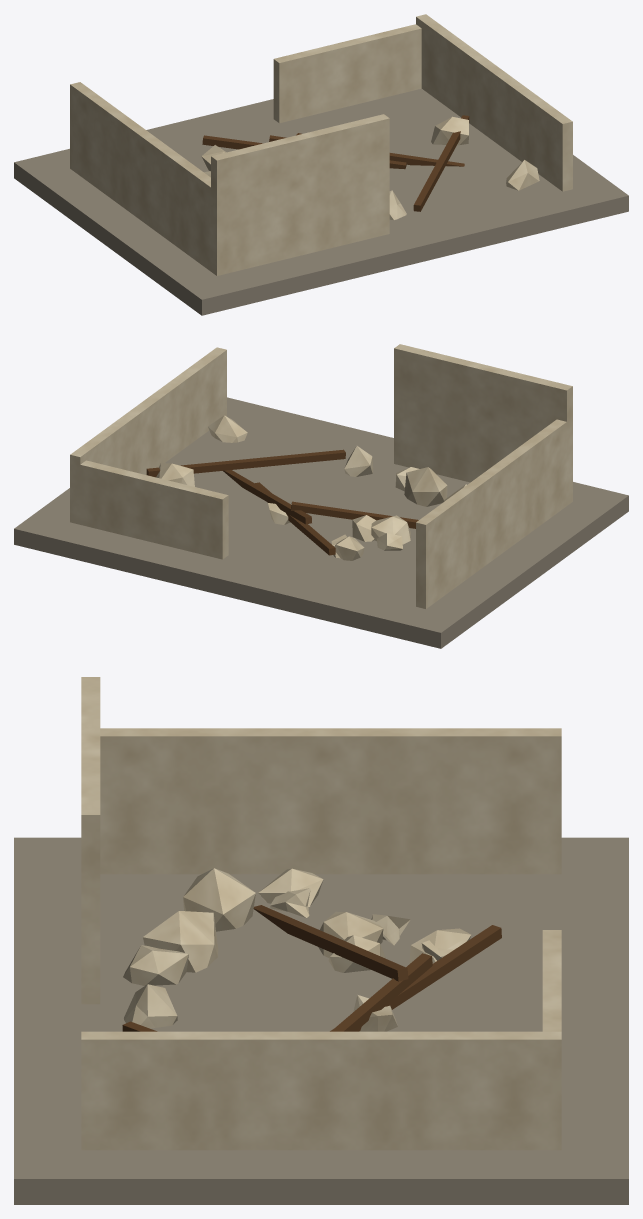
The model's file is house_ruined.glb.
3 renders of one model, top to bottom at view 1: azimuth 30°, elevation 25°; view 2: azimuth 150°, elevation 25°; view 3: azimuth 270°, elevation 25°, orthographic. The views are drawn at different scales.
Visible parts, largest first — view 1: House; view 2: House; view 3: House.
Boxes of the visible parts, x1,y1,x2,y2 form: House: (14, 14, 628, 315); House: (14, 344, 628, 648); House: (14, 677, 628, 1204).
Size of the model in its own units: 8.4 by 2.6 by 6.4.
3 materials, 1 textured.
